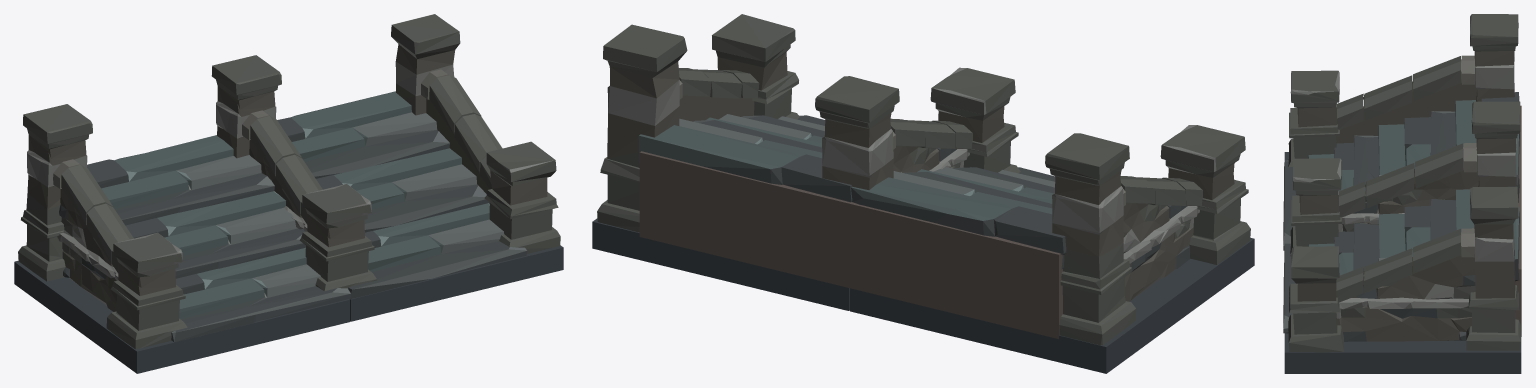
Rendered from MDungeons_StepsDouble.FBX.
3 renders of one model, left to right at view 1: azimuth 30°, elevation 25°; view 2: azimuth 150°, elevation 25°; view 3: azimuth 270°, elevation 25°, orthographic. The views are drawn at different scales.
Parts seen in each view (by area): view 1: MDungeons_StepsDouble_LOD0; view 2: MDungeons_StepsDouble_LOD0; view 3: MDungeons_StepsDouble_LOD0.
Part boxes in pixels (x1=…): MDungeons_StepsDouble_LOD0: x1=14, y1=14, x2=563, y2=373; MDungeons_StepsDouble_LOD0: x1=592, y1=14, x2=1254, y2=373; MDungeons_StepsDouble_LOD0: x1=1283, y1=14, x2=1521, y2=373.
Size of what is drawn, in the model's own units: 11.96 by 4.57 by 6.
